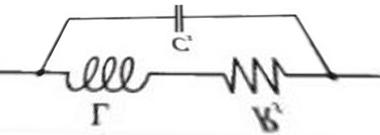resistor: (216, 44, 292, 100)
